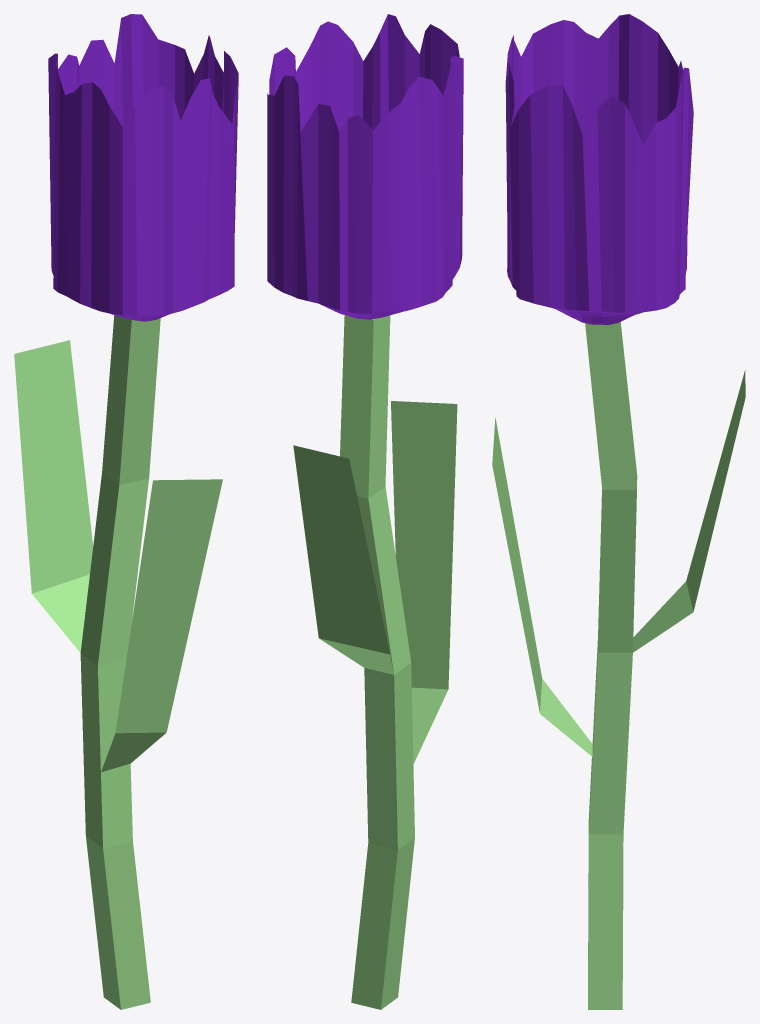
File: flower_2.fbx
3 renders of one model, left to right at view 1: azimuth 30°, elevation 25°; view 2: azimuth 150°, elevation 25°; view 3: azimuth 270°, elevation 25°, orthographic.
Visible parts, largest first — view 1: Bottom, Top; view 2: Bottom, Top; view 3: Top, Bottom.
Part boxes in pixels (x1,y1,x2,y2): Bottom: [14, 315, 222, 1009]; Top: [48, 14, 238, 321]; Bottom: [293, 315, 457, 1009]; Top: [267, 14, 463, 319]; Top: [505, 14, 693, 324]; Bottom: [492, 322, 745, 1009].
Bounding box in the file's own units: 7.59 × 43.02 × 10.29.
